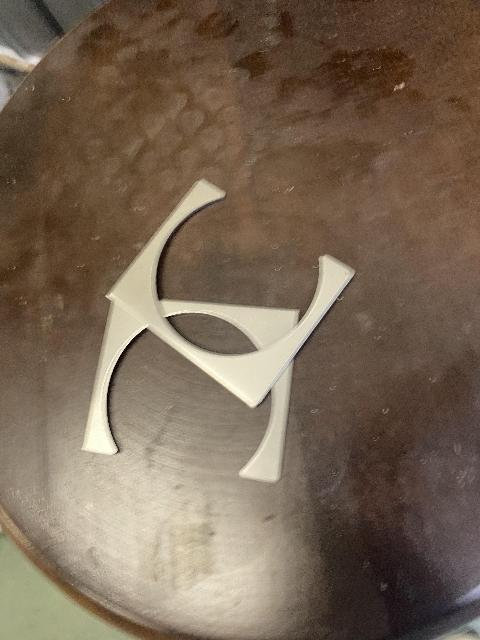Metal: (114, 173, 384, 397), (49, 295, 319, 490)
